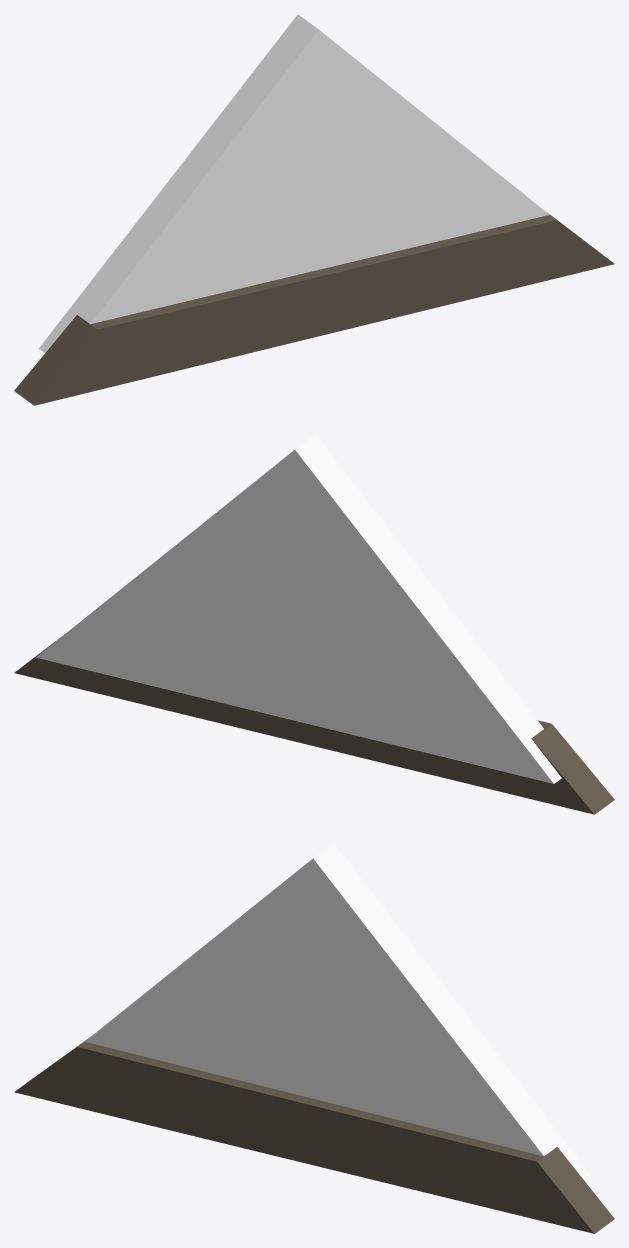
Rendered from ROOF_triangles_up_wood_1.fbx.
3 views of the same model, one above another, from view 1: azimuth 30°, elevation 25°; view 2: azimuth 150°, elevation 25°; view 3: azimuth 330°, elevation 25° (orthographic).
Parts seen in each view (by area): view 1: ROOF_triangles_up_wood_1; view 2: ROOF_triangles_up_wood_1; view 3: ROOF_triangles_up_wood_1.
Boxes of the visible parts, x1,y1,x2,y2 form: ROOF_triangles_up_wood_1: (14,14,614,405); ROOF_triangles_up_wood_1: (14,434,614,814); ROOF_triangles_up_wood_1: (14,843,614,1233).
Bounding box in the file's own units: 112 × 55.26 × 9.44.
